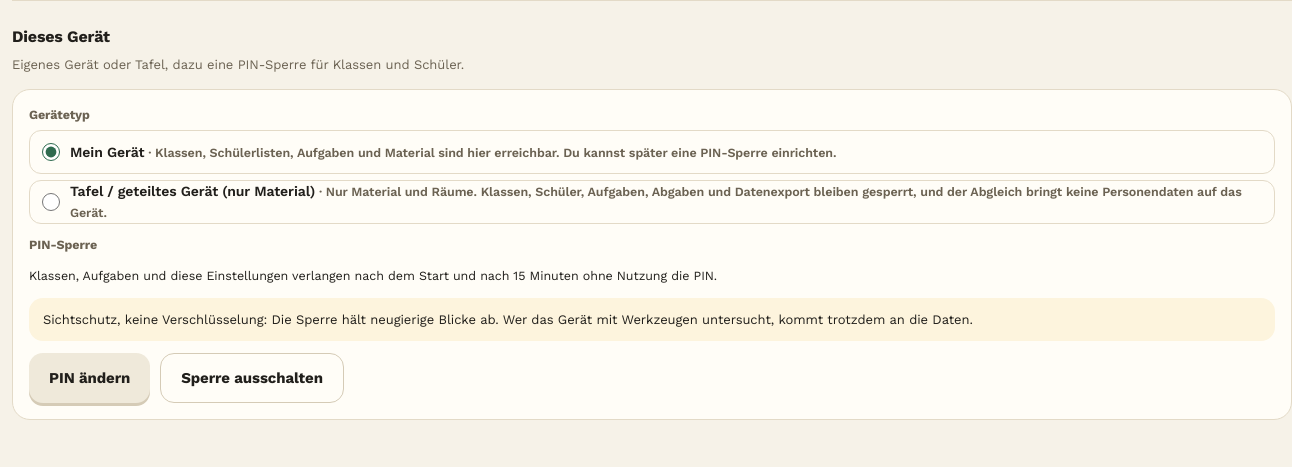
Test: TeacherDeviceSettings › wechselt auf die Tafel, hebt die PIN-Sperre auf und bietet das Löschen an
This screenshot has width=1292, height=467.
Click the radio button labelled "Tafel" at (51,202), box top-left (42, 193), bottom-right (60, 211)
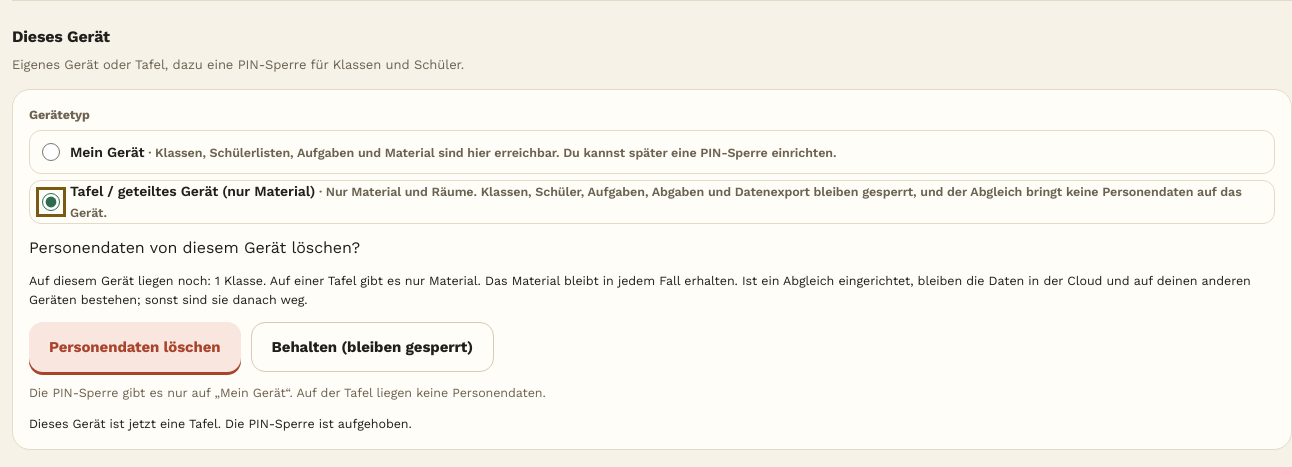
Now the heading "Personendaten von diesem Gerät löschen?" is shown, box top-left (29, 238), bottom-right (360, 257)
Click the button "Personendaten löschen" at (135,347), box top-left (29, 322), bottom-right (241, 372)
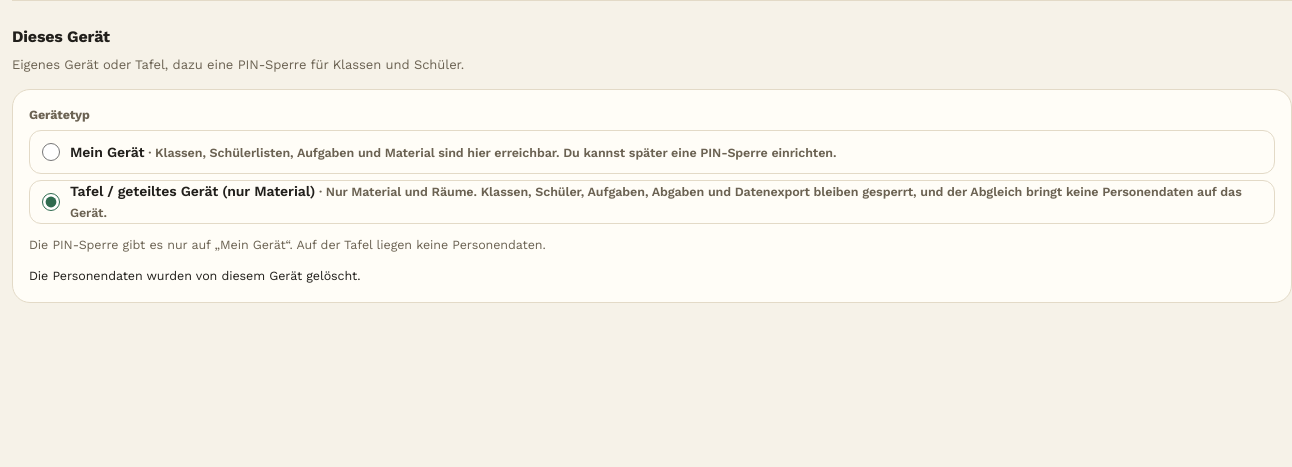
Now the message reads "Die Personendaten wurden von diesem Gerät gelöscht.", box top-left (29, 268), bottom-right (360, 283)
